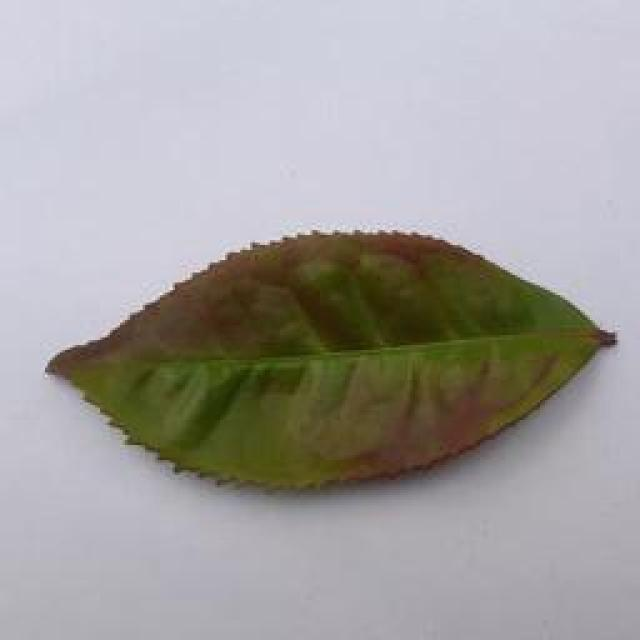Red Leaf Spot: (41, 204, 628, 498)
